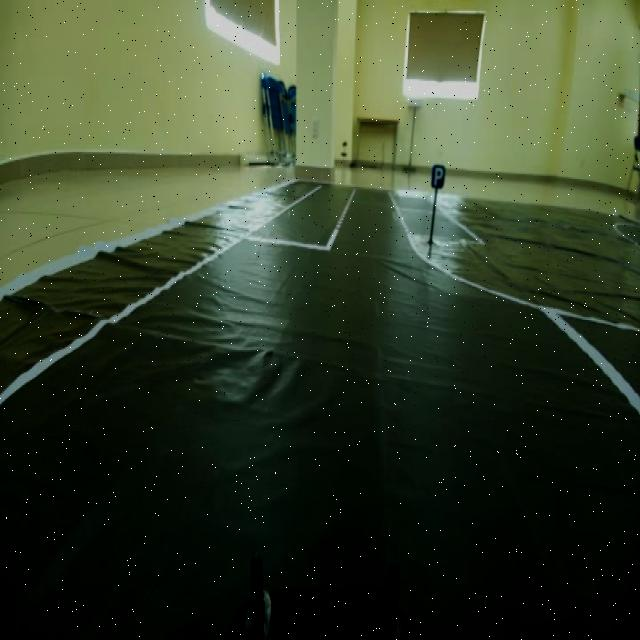parking: (427, 157, 457, 198)
